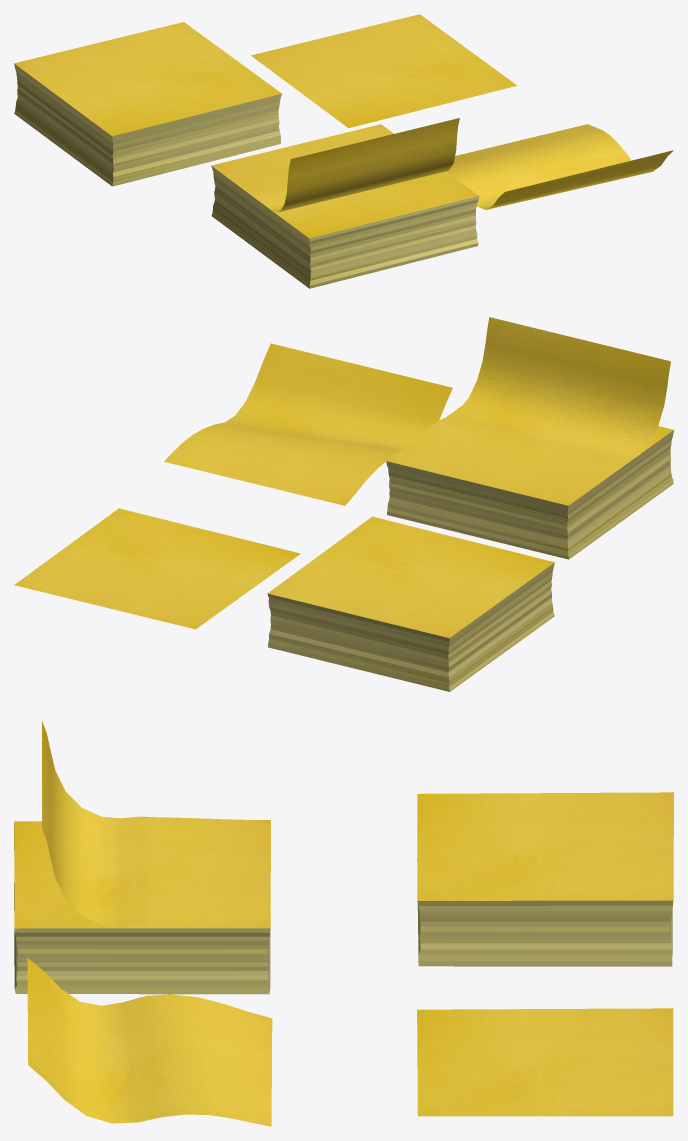
The model's file is post_it.fbx.
3 renders of one model, top to bottom at view 1: azimuth 30°, elevation 25°; view 2: azimuth 150°, elevation 25°; view 3: azimuth 270°, elevation 25°, orthographic. The views are drawn at different scales.
Parts seen in each view (by area): view 1: SINGLE, STACK2, single, FRONT_CURVED, single curved; view 2: SINGLE, FRONT_CURVED, single curved, single, STACK2; view 3: SINGLE, single curved, single, FRONT_CURVED, STACK2.
Boxes of the visible parts, x1=… form: SINGLE: x1=14, y1=22, x2=281, y2=186; STACK2: x1=211, y1=124, x2=479, y2=288; single: x1=251, y1=14, x2=516, y2=128; FRONT_CURVED: x1=212, y1=118, x2=459, y2=212; single curved: x1=446, y1=124, x2=673, y2=209; SINGLE: x1=267, y1=516, x2=554, y2=691; FRONT_CURVED: x1=392, y1=317, x2=670, y2=505; single curved: x1=164, y1=343, x2=452, y2=505; single: x1=14, y1=508, x2=300, y2=629; STACK2: x1=386, y1=406, x2=673, y2=559; SINGLE: x1=417, y1=792, x2=673, y2=966; single curved: x1=27, y1=958, x2=272, y2=1126; single: x1=417, y1=1008, x2=673, y2=1116; FRONT_CURVED: x1=42, y1=721, x2=270, y2=928; STACK2: x1=14, y1=820, x2=270, y2=994.
Bounding box in the file's own units: 496 × 140 × 516.
3 materials, 3 textured.
